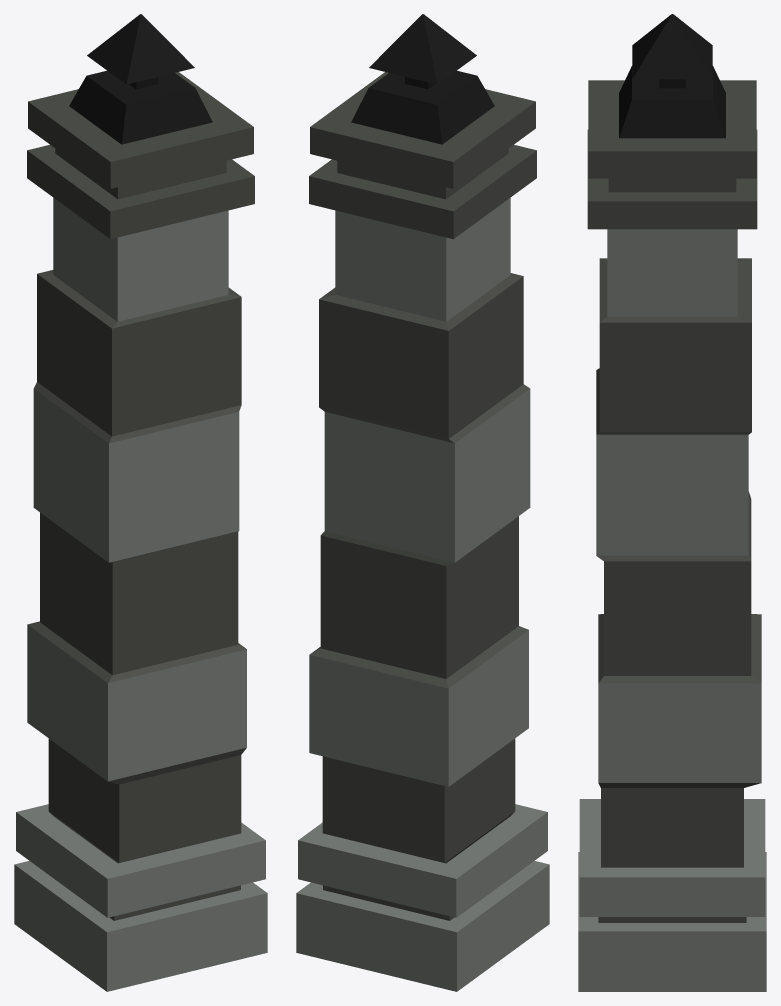
Rendered from Pilar.fbx.
3 views of the same model, side by side, from view 1: azimuth 30°, elevation 25°; view 2: azimuth 150°, elevation 25°; view 3: azimuth 270°, elevation 25° (orthographic).
Parts seen in each view (by area): view 1: Piilar; view 2: Piilar; view 3: Piilar.
Part boxes in pixels (x1,y1,x2,y2): Piilar: (14, 14, 267, 991); Piilar: (296, 14, 549, 991); Piilar: (578, 14, 766, 991).
Size of the model in its own units: 200 by 1102 by 200.
